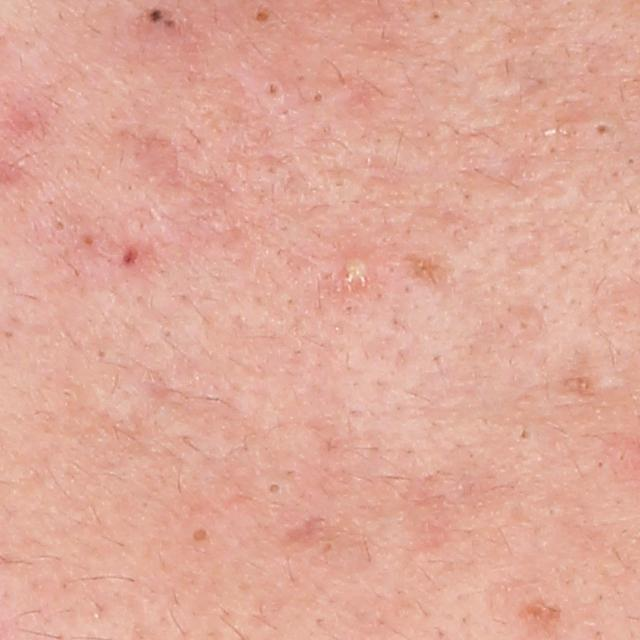atrophic_scar: (277, 513, 343, 548)
comedo: (511, 312, 538, 337), (593, 123, 611, 138), (252, 8, 269, 23), (266, 81, 280, 99), (429, 10, 443, 24), (164, 19, 177, 32), (313, 91, 324, 106)
pustule: (331, 245, 379, 291)
